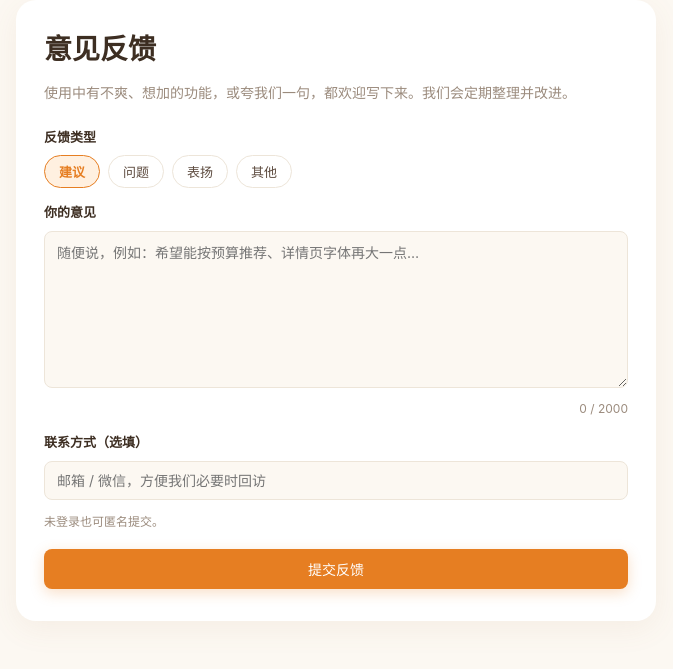
Test case: FeedbackView › 少于 5 字时显示错误，不发请求
Type "短" into the text box with test id "feedback-content" at x=336, y=309, box [44,231,628,388]
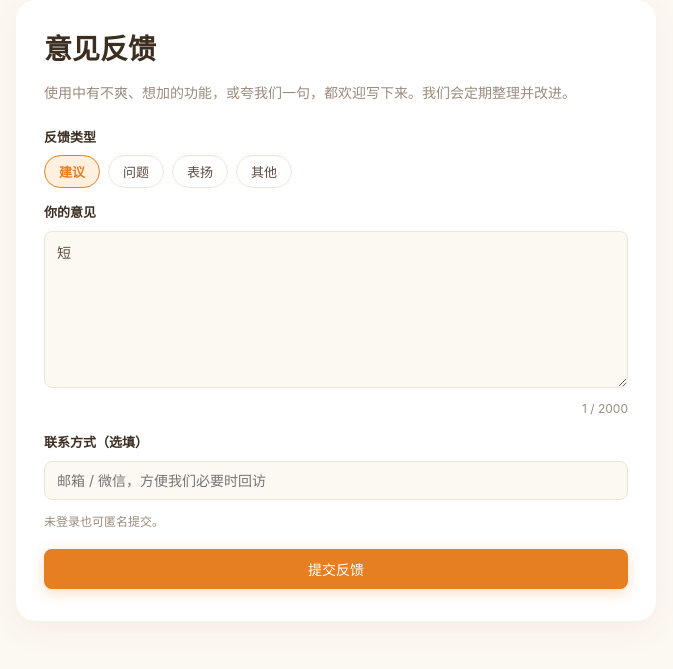
Click the button with test id "feedback-submit" at x=336, y=569, box [44,549,628,589]
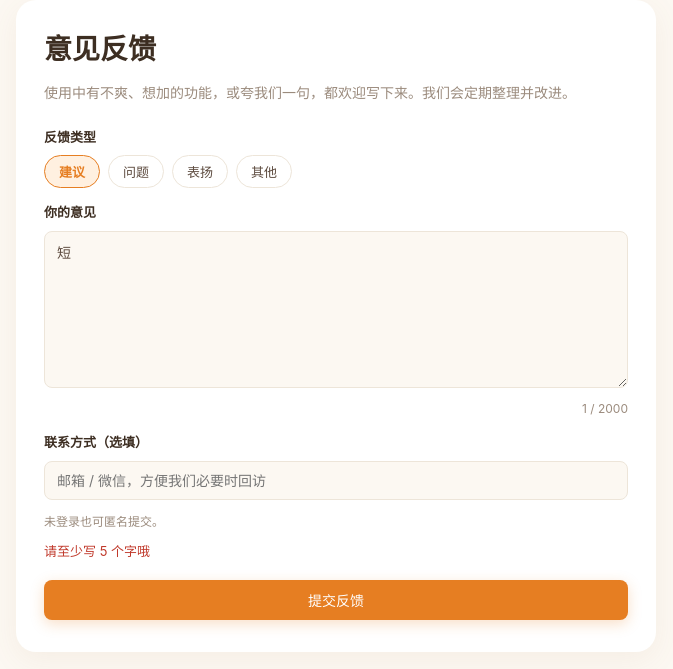
Now the text with test id "feedback-error" shows "至少写 5 个字", box [44,543,150,559]
